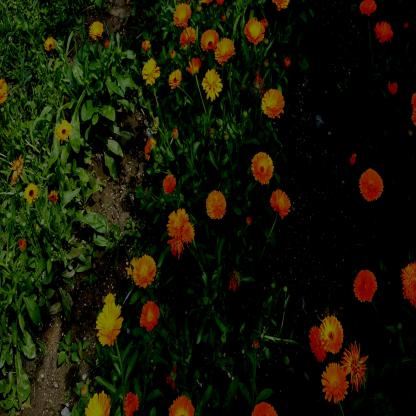marigold: (321, 312, 346, 355), (323, 362, 348, 401), (98, 308, 121, 348), (353, 268, 377, 303), (361, 166, 384, 202), (251, 151, 275, 182), (345, 344, 366, 379), (308, 323, 327, 361), (202, 68, 224, 99), (262, 89, 285, 117), (400, 261, 416, 300), (135, 257, 156, 286), (85, 393, 110, 416), (168, 394, 194, 416), (167, 209, 187, 236), (206, 191, 226, 218), (140, 301, 159, 329), (270, 189, 289, 217), (244, 18, 264, 44), (216, 36, 235, 62), (374, 21, 394, 44), (142, 59, 159, 85), (124, 391, 141, 415), (54, 120, 72, 141), (201, 29, 219, 49), (178, 26, 196, 45), (162, 173, 178, 194), (174, 3, 190, 23), (360, 0, 376, 17), (182, 221, 194, 242), (89, 21, 104, 37), (169, 70, 182, 86), (25, 184, 37, 199), (44, 37, 55, 52)
